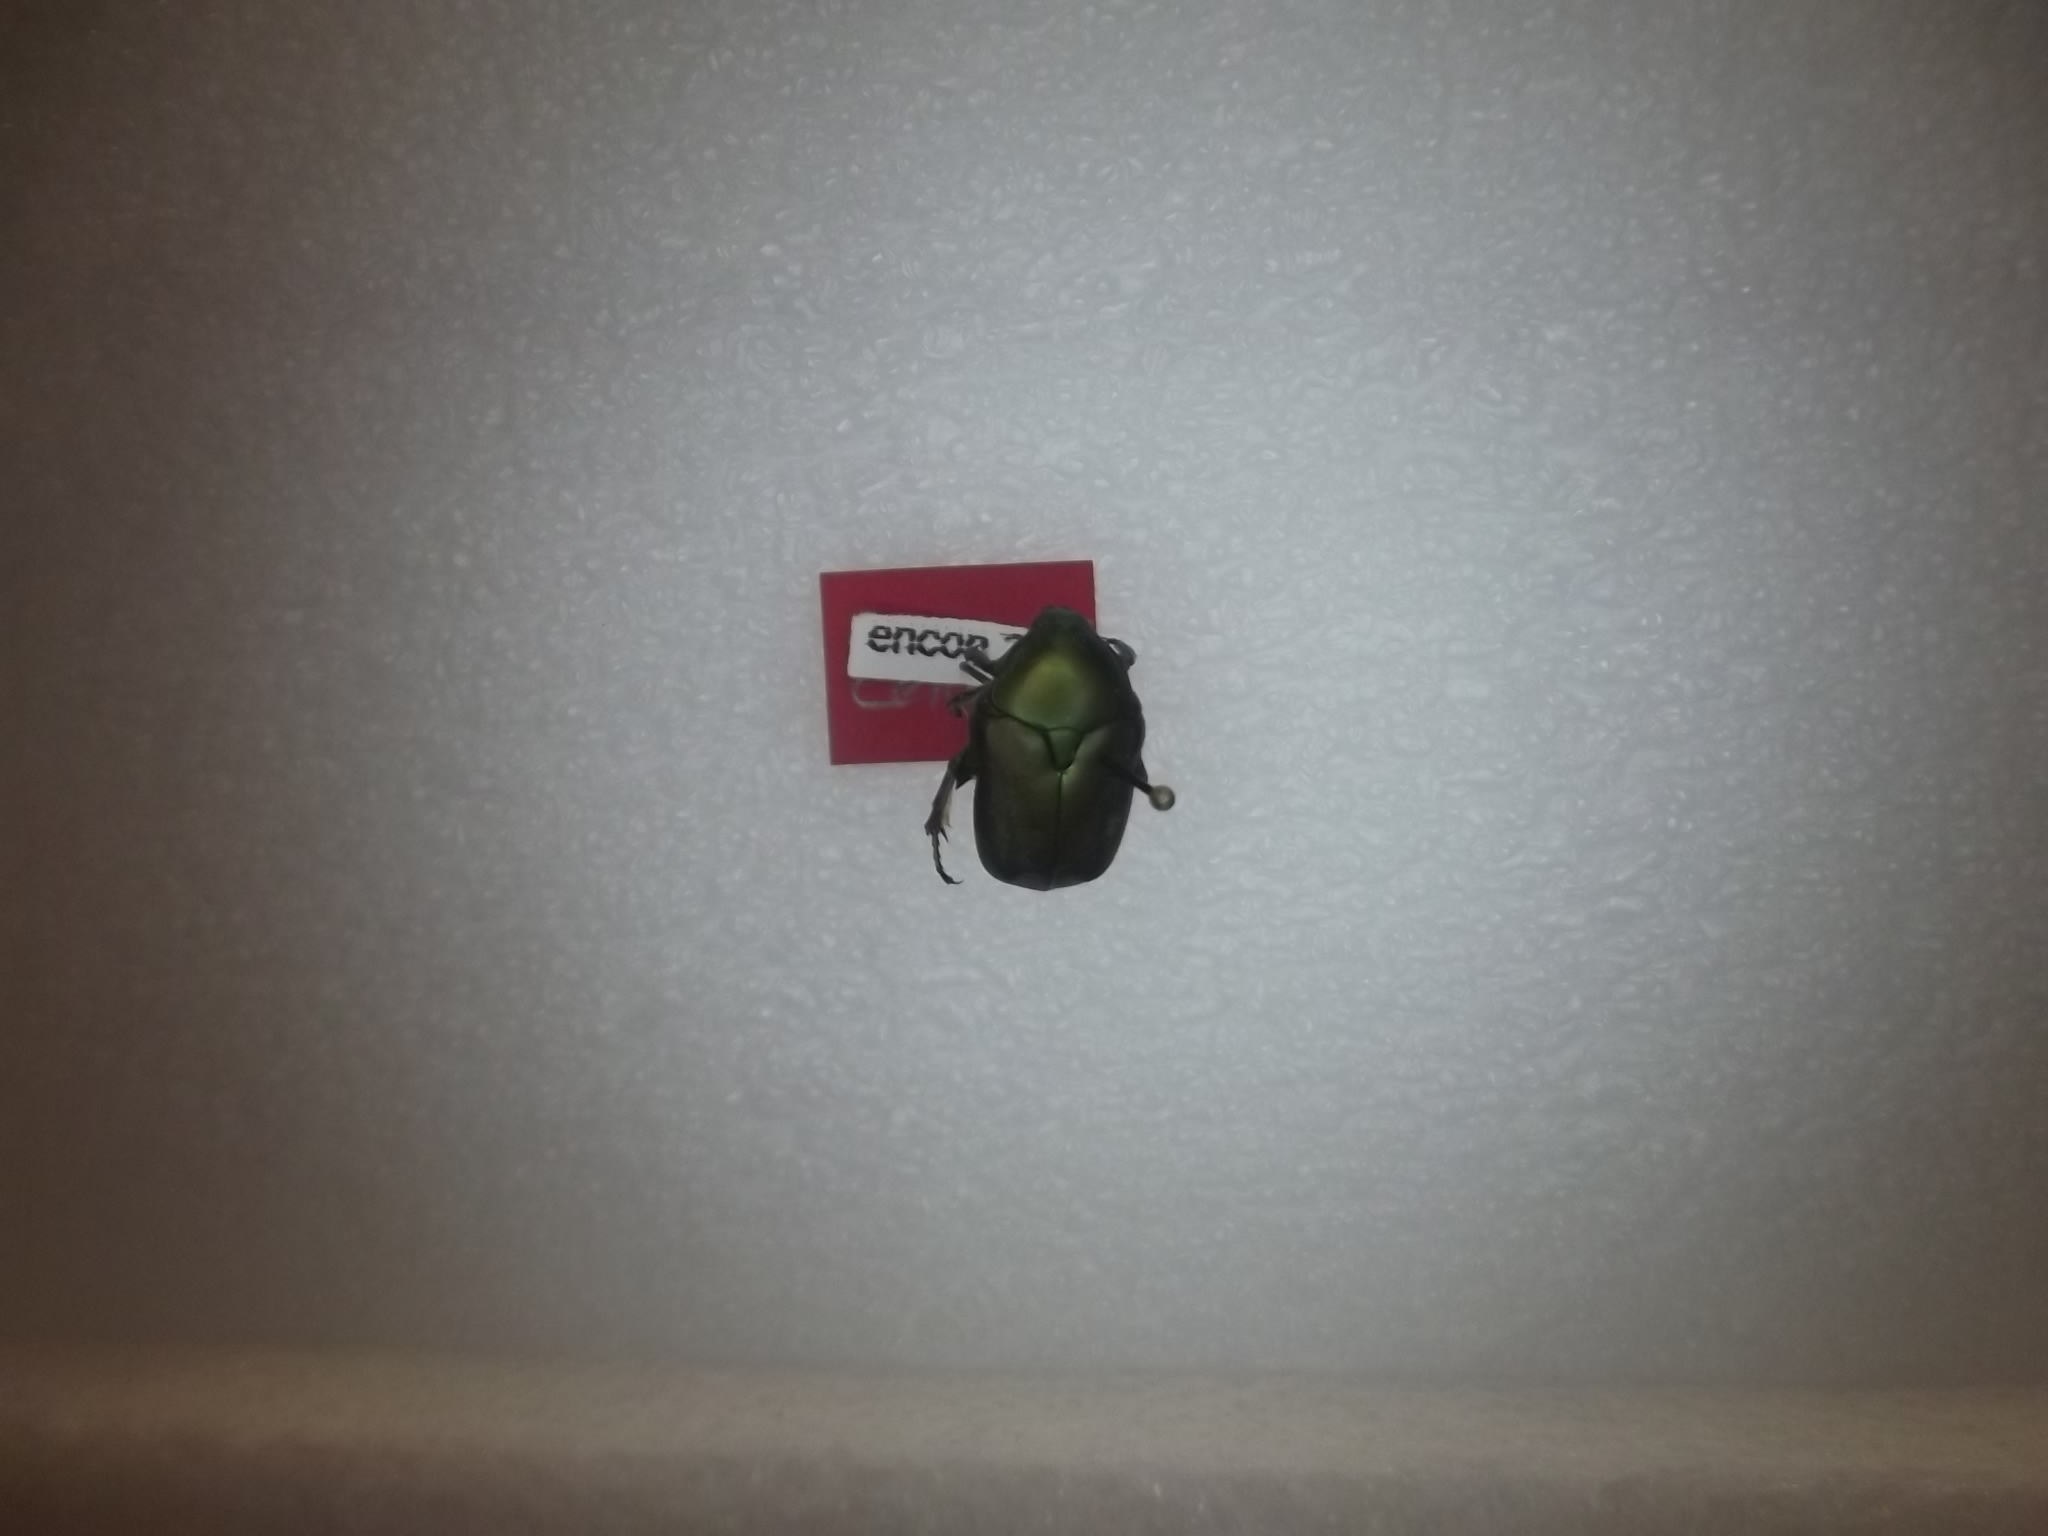Protaetia_ungarica_americana: (918, 587, 1171, 920)
